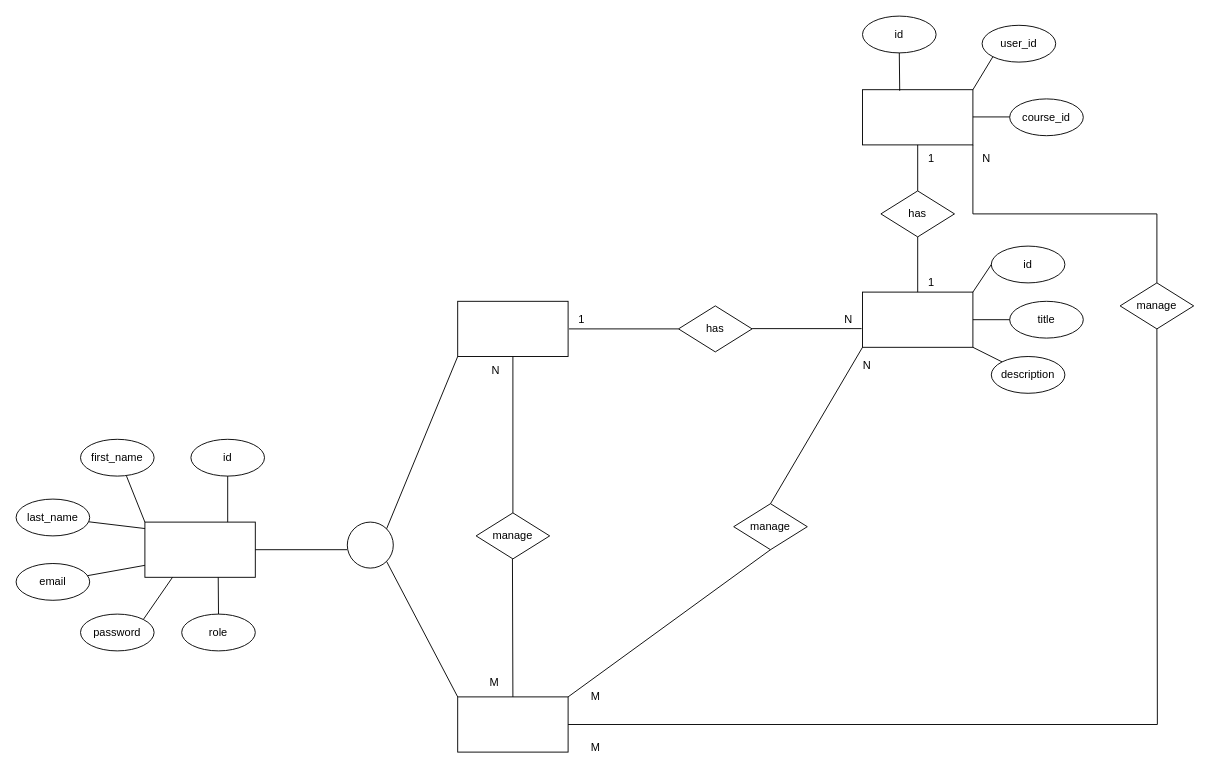
Some shapes in this 1210 by 777 pixel diagram are drawn without their labels. Each missing label, with the centre of its shape:
"admin" belongs at point 512,724.
"Course" belongs at point 917,319.
"Enrollment" belongs at point 917,117.
"Student" belongs at point 512,328.
"User" belongs at point 199,549.
